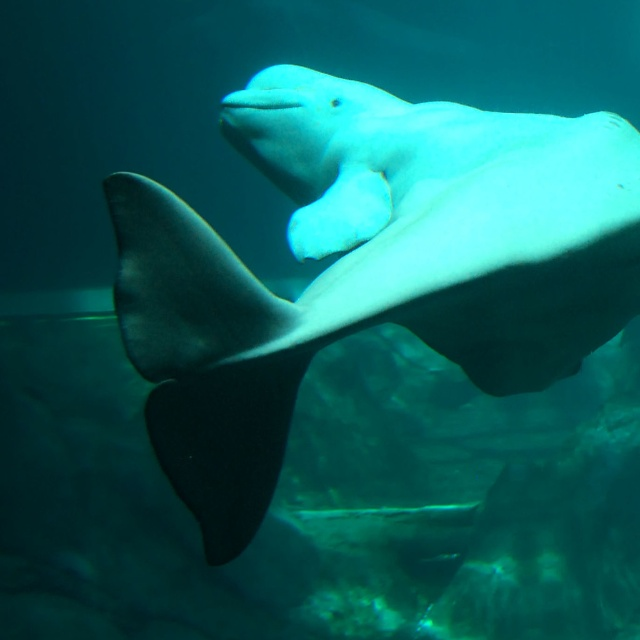Fish: (103, 64, 640, 565)
